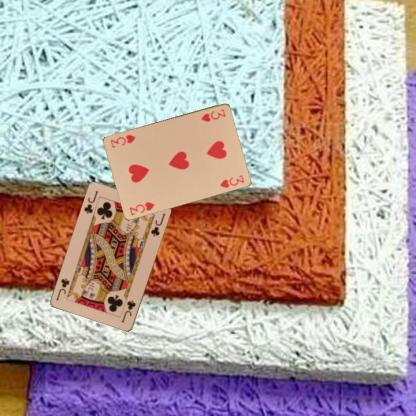3h: (127, 199, 156, 216), (199, 107, 227, 122)
Jc: (82, 188, 100, 216), (119, 298, 137, 324)
